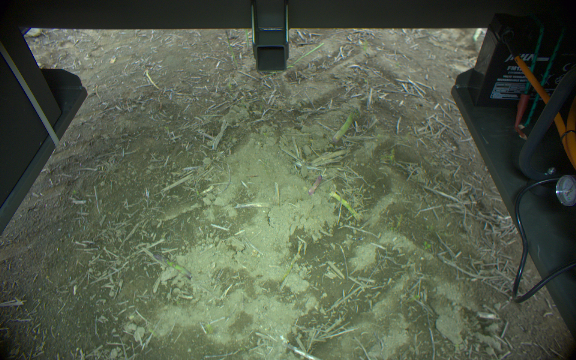aspa: (153, 251, 192, 282), (330, 190, 361, 222), (288, 42, 325, 68), (330, 110, 357, 144), (280, 245, 301, 286), (221, 30, 239, 69), (307, 173, 323, 194), (243, 27, 251, 51)
